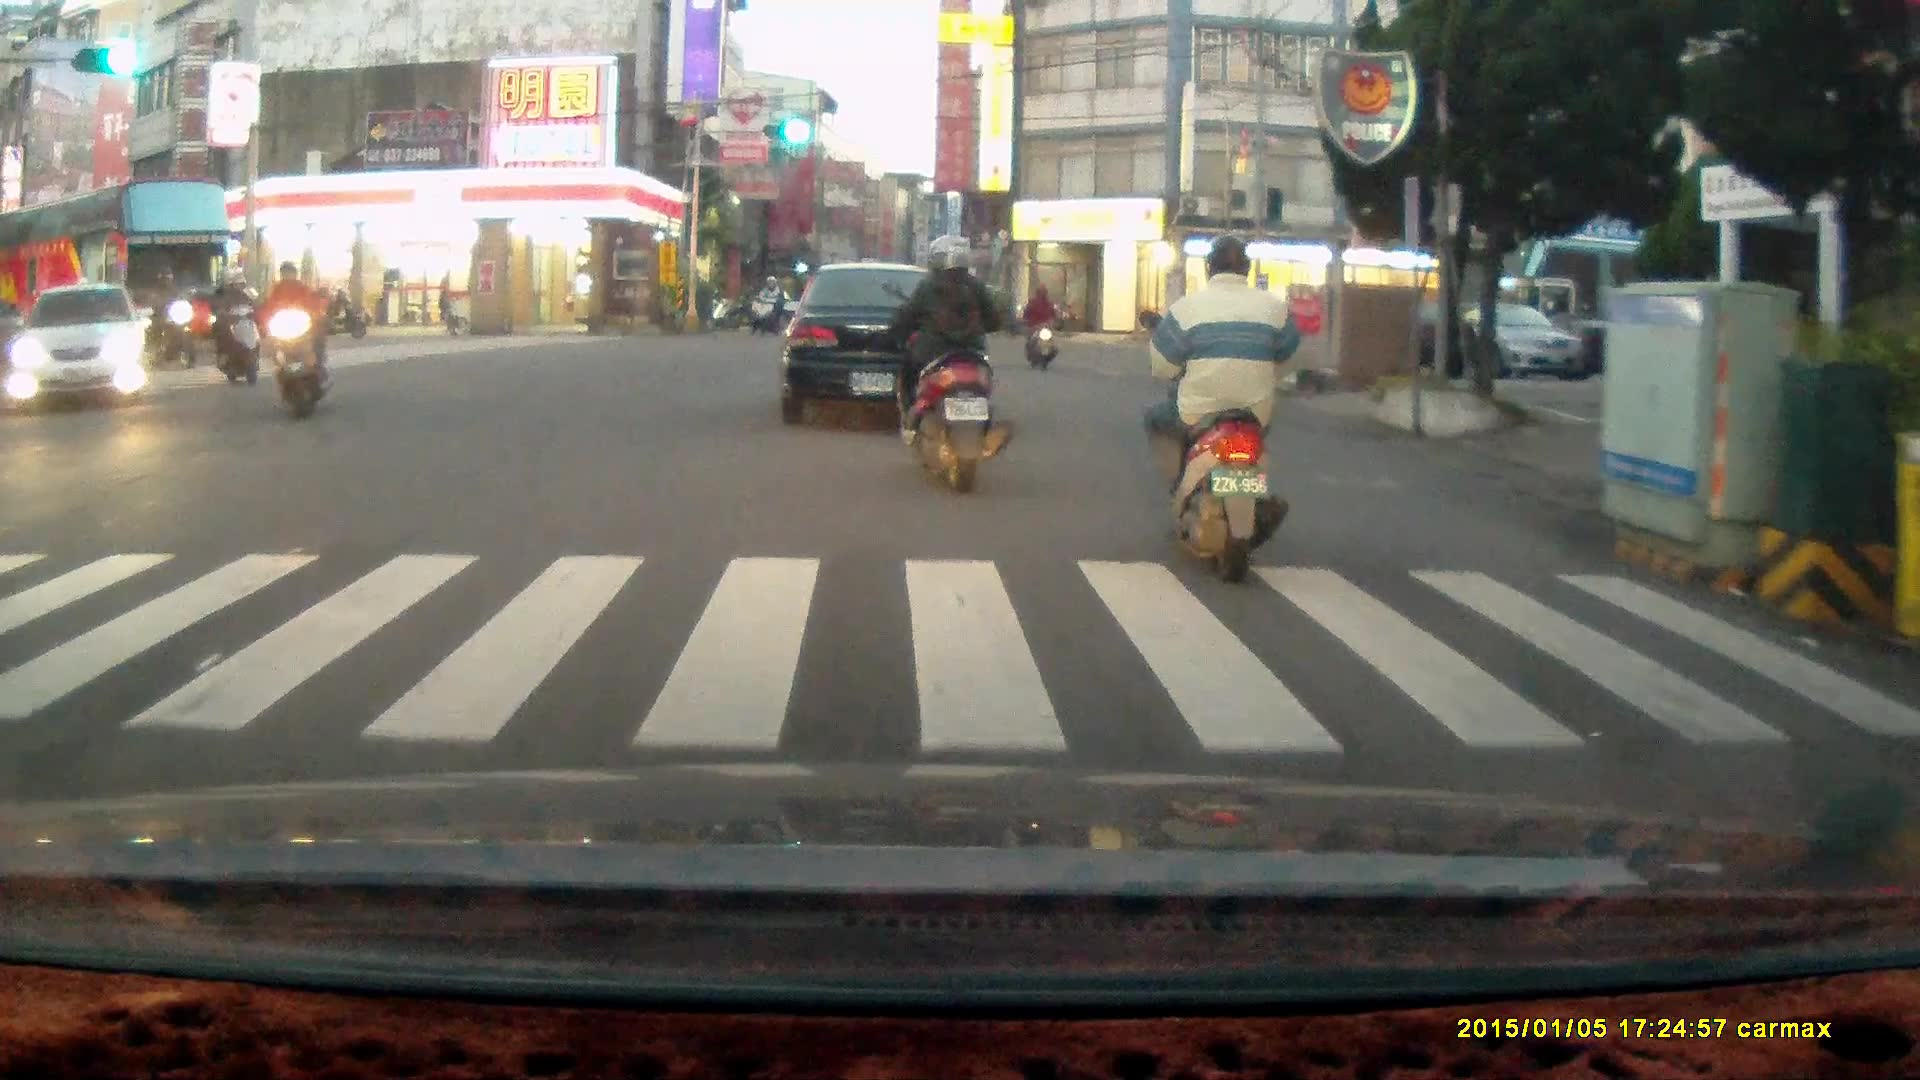rider: (1137, 236, 1295, 583), (878, 228, 1018, 496), (254, 259, 330, 428), (205, 264, 263, 389), (139, 263, 199, 370), (1022, 277, 1061, 368), (746, 282, 780, 346)
vehicle: (1, 181, 234, 356), (10, 285, 149, 412), (1399, 297, 1587, 383)
